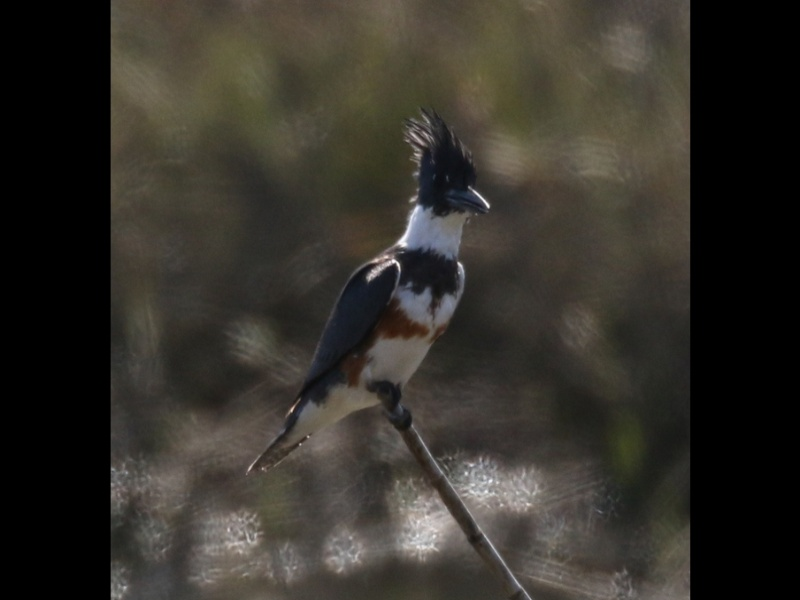kingfisher: (249, 104, 495, 476)
